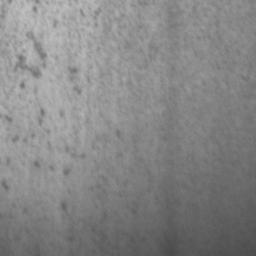Pitted surface: (0, 0, 256, 192), (0, 204, 46, 256), (88, 176, 126, 219), (160, 66, 182, 140), (68, 226, 117, 256), (165, 236, 177, 256), (61, 200, 69, 216)
